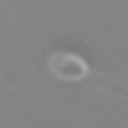normal: (88, 68, 128, 100)
